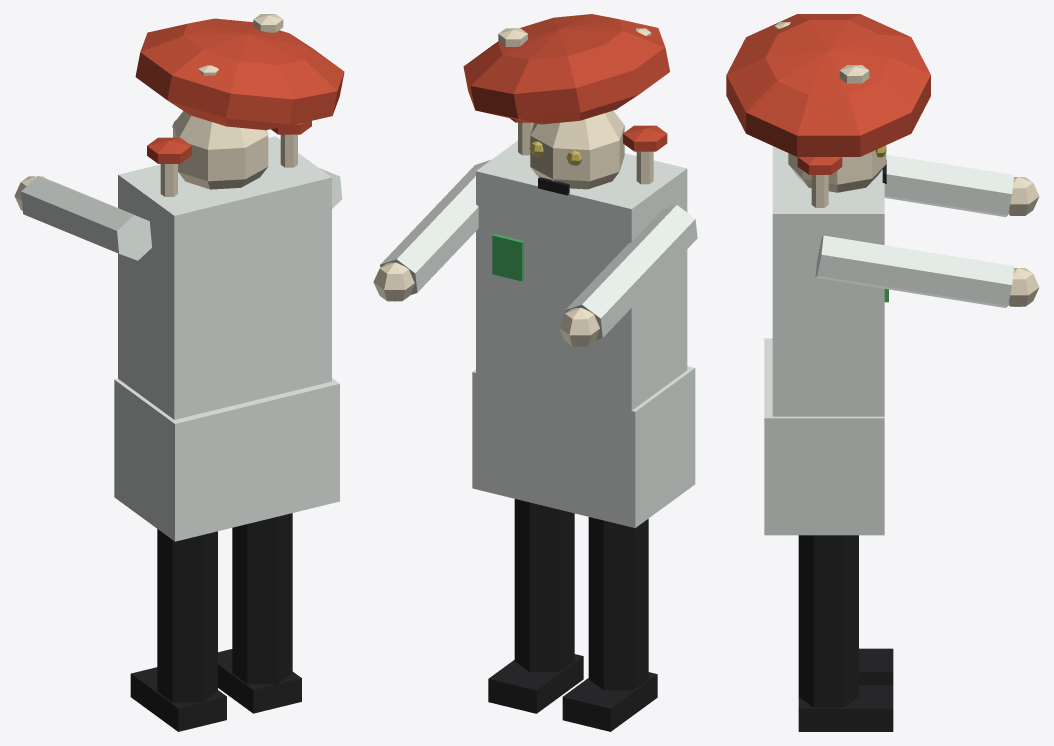
The model's file is enemy_mushroom_zombie.glb.
3 views of the same model, side by side, from view 1: azimuth 30°, elevation 25°; view 2: azimuth 150°, elevation 25°; view 3: azimuth 270°, elevation 25° (orthographic).
Parts seen in each view (by area): view 1: enemy_mushroom_zombie; view 2: enemy_mushroom_zombie; view 3: enemy_mushroom_zombie.
Boxes of the visible parts, x1,y1,x2,y2 form: enemy_mushroom_zombie: (14, 14, 344, 731); enemy_mushroom_zombie: (373, 14, 697, 731); enemy_mushroom_zombie: (726, 14, 1039, 731).
Bounding box in the file's own units: 0.5953 × 1.71 × 0.7278.
Materials: 1 (1 with a texture image).
